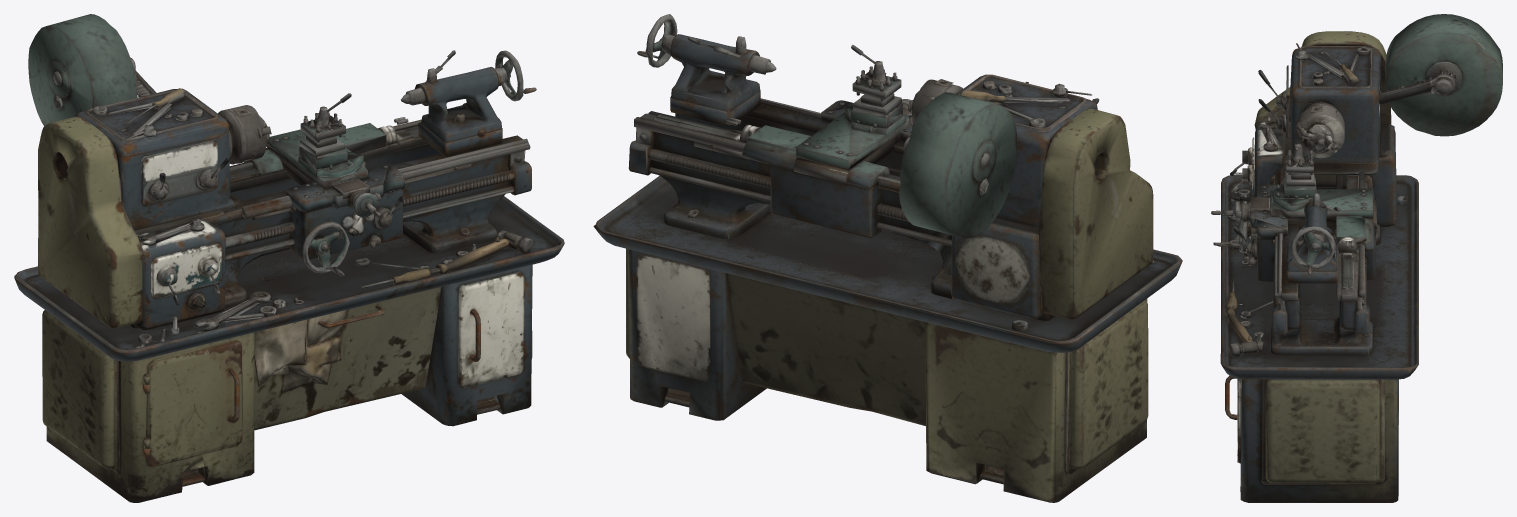
File: silo81_lathe.glb
3 views of the same model, side by side, from view 1: azimuth 30°, elevation 25°; view 2: azimuth 150°, elevation 25°; view 3: azimuth 270°, elevation 25° (orthographic). The views are drawn at different scales.
Size of the model in its own units: 0.9463 by 0.7358 by 0.5811.
1 material, 1 textured.
